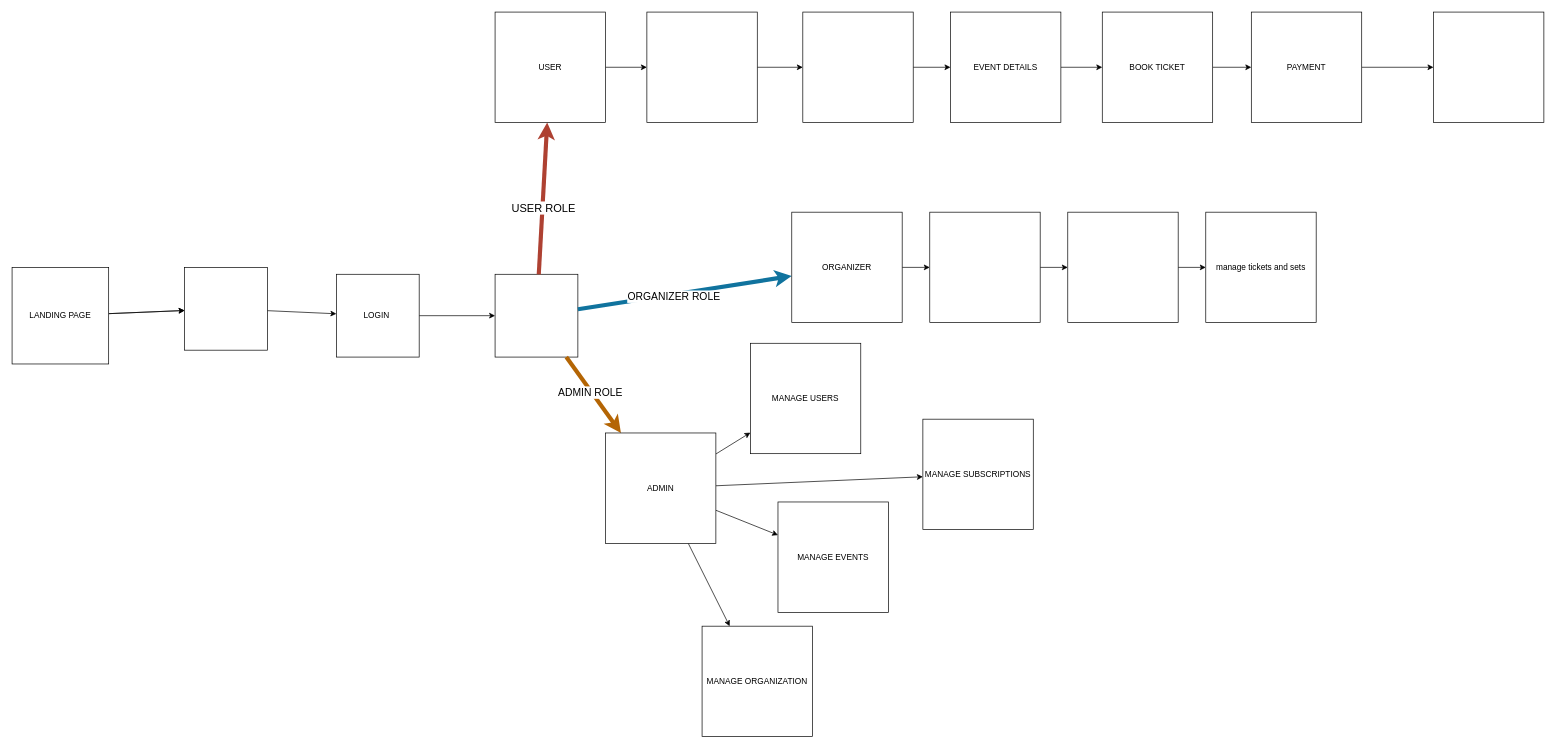
Image size: 1556x749. Some labels were removed from this diagram. The centre of each missing label's shape, as x and y in pixels:
"CREATE EVENTS" belongs at (1122,267).
"EXPLORE EVENTS" belongs at (701,66).
"HOME PAGE" belongs at (536,315).
"PIKE AN EVENT" belongs at (857,66).
"REGESTER [ USER - ORGANIZER]" belongs at (225,308).
"SEND EMAIL TO USER WITH TECKET" belongs at (1488,66).
"SUBSCRIPE TO PLANE" belongs at (984,267).
